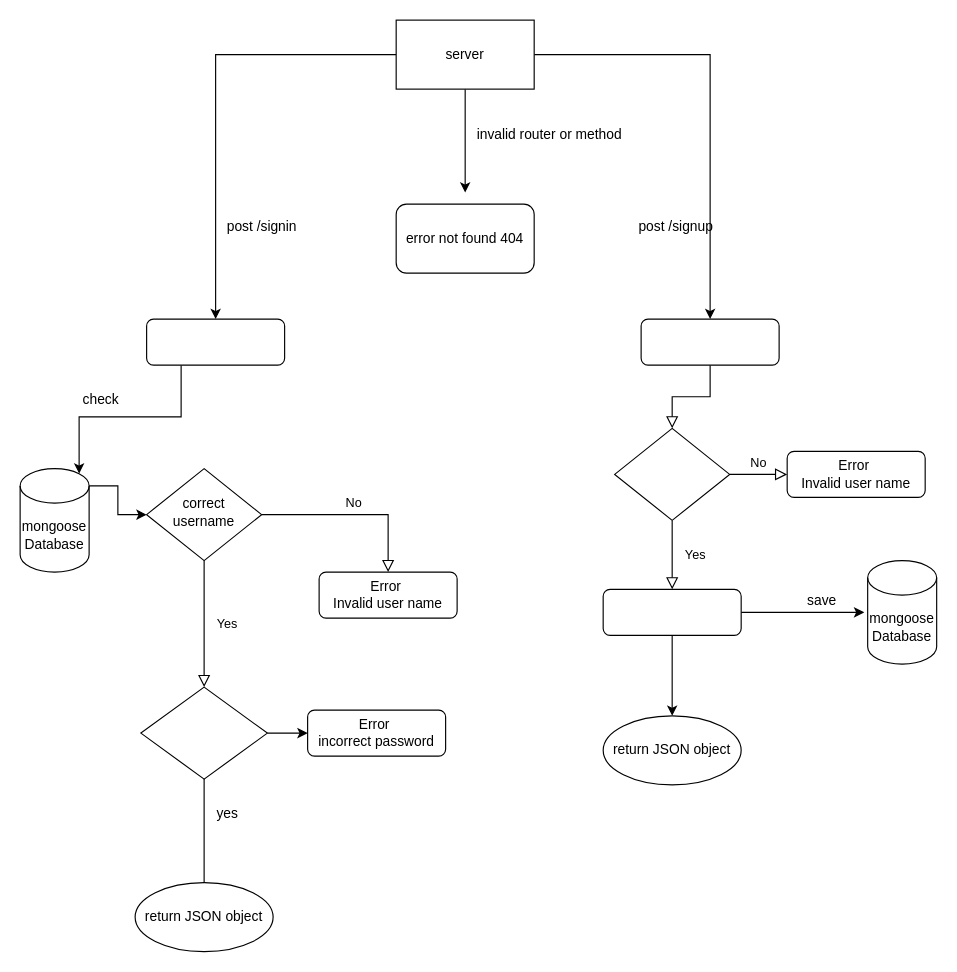
The diagram is 957 pixels wide and 972 high, and some of its shapes have lost their labels. Here are the shapes that lost their labels. From the top down, the centre of each, then its label:
At point (215, 341): "sign in".
At point (709, 341): "sign up".
At point (672, 473): "unique user name".
At point (671, 611): "Hash the password".
At point (203, 732): "correct password".
